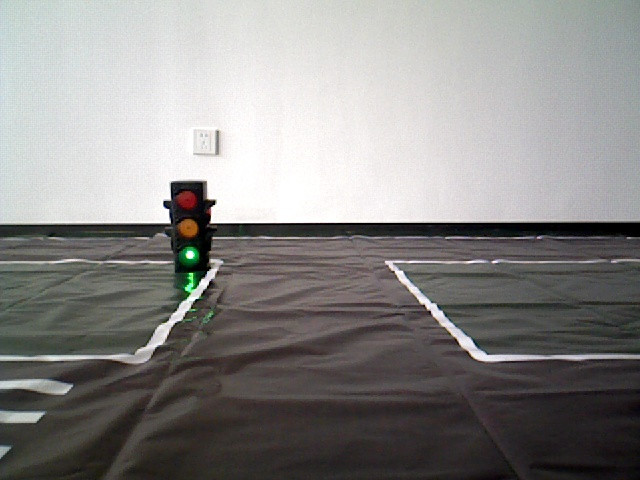green: (173, 182, 208, 270)
